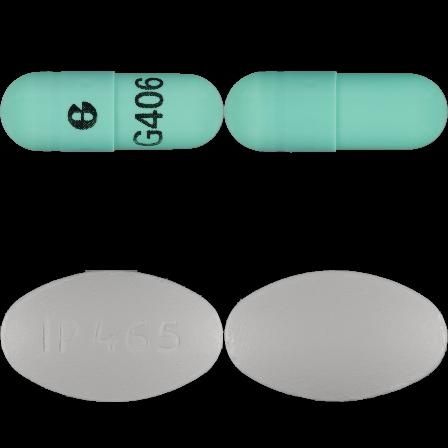50090-0055: (0, 0, 224, 224)
